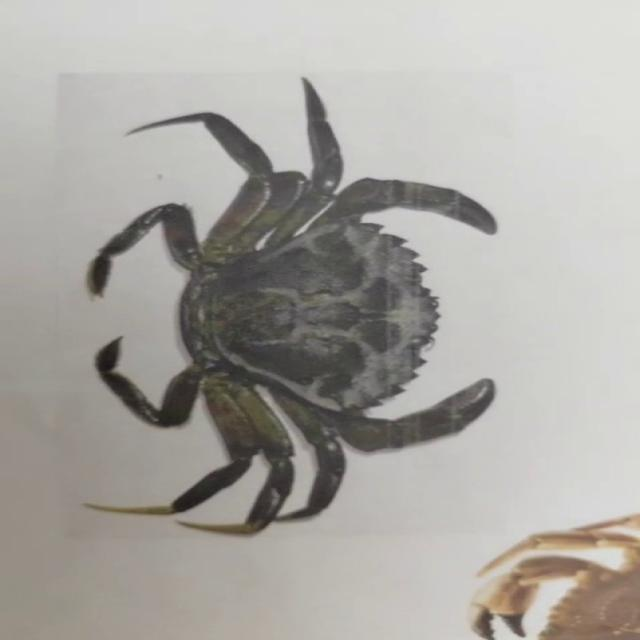egc: (87, 78, 495, 534)
